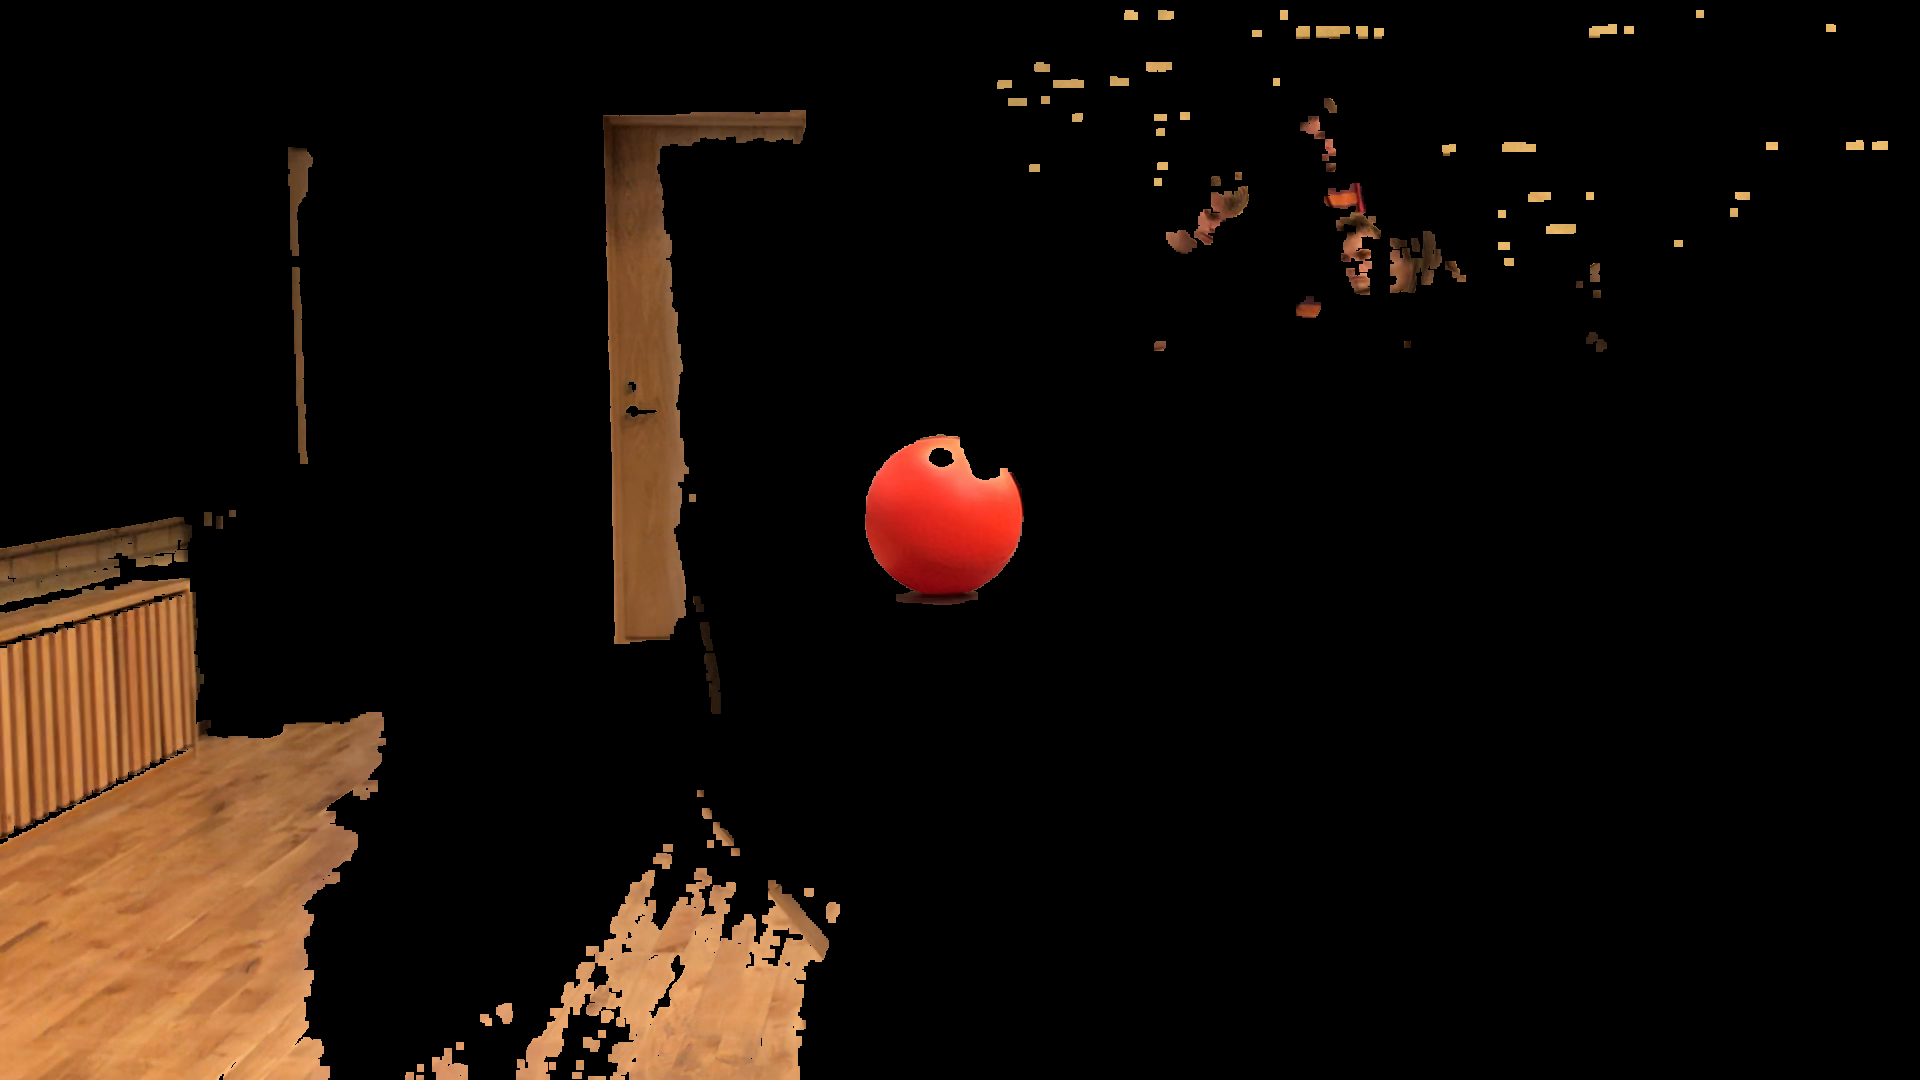Ball: (855, 434, 1027, 603)
